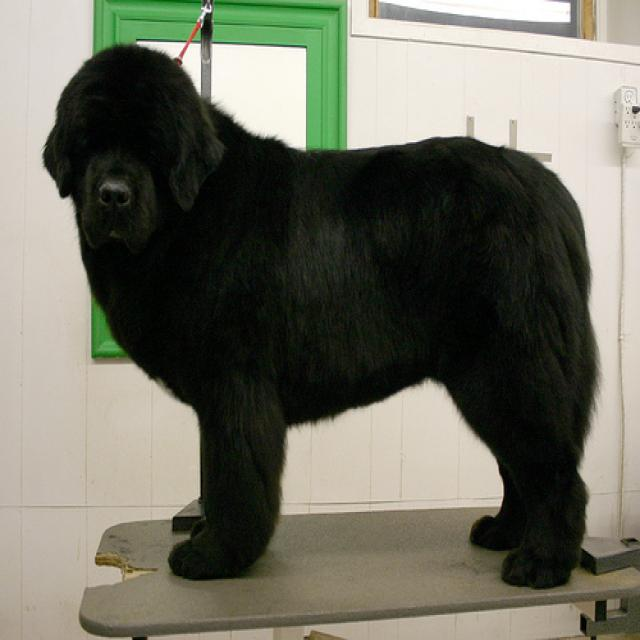dog-newfoundland: (26, 30, 603, 604)
